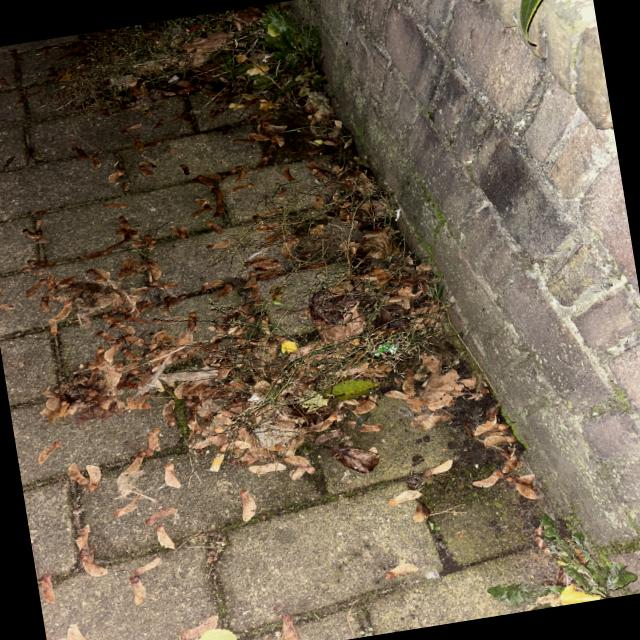leaves: (21, 24, 547, 501)
pavement: (0, 39, 536, 639)
weed: (506, 486, 631, 612)
